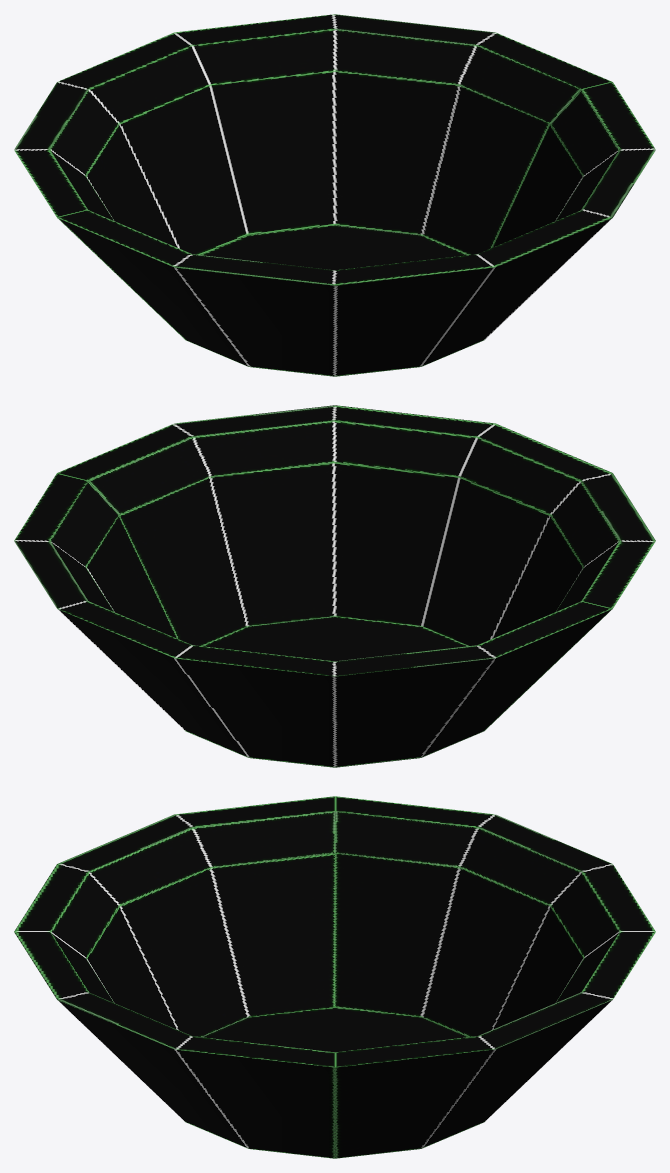
The model's file is bowl.FBX.
3 renders of one model, top to bottom at view 1: azimuth 30°, elevation 25°; view 2: azimuth 150°, elevation 25°; view 3: azimuth 270°, elevation 25°, orthographic.
Visible parts, largest first — view 1: Cylinder001; view 2: Cylinder001; view 3: Cylinder001.
Boxes of the visible parts, bbox=[...] form: Cylinder001: bbox=[14, 14, 655, 376]; Cylinder001: bbox=[14, 405, 655, 767]; Cylinder001: bbox=[14, 796, 655, 1158].
Size of the model in its own units: 20.7 by 5.48 by 20.7.
